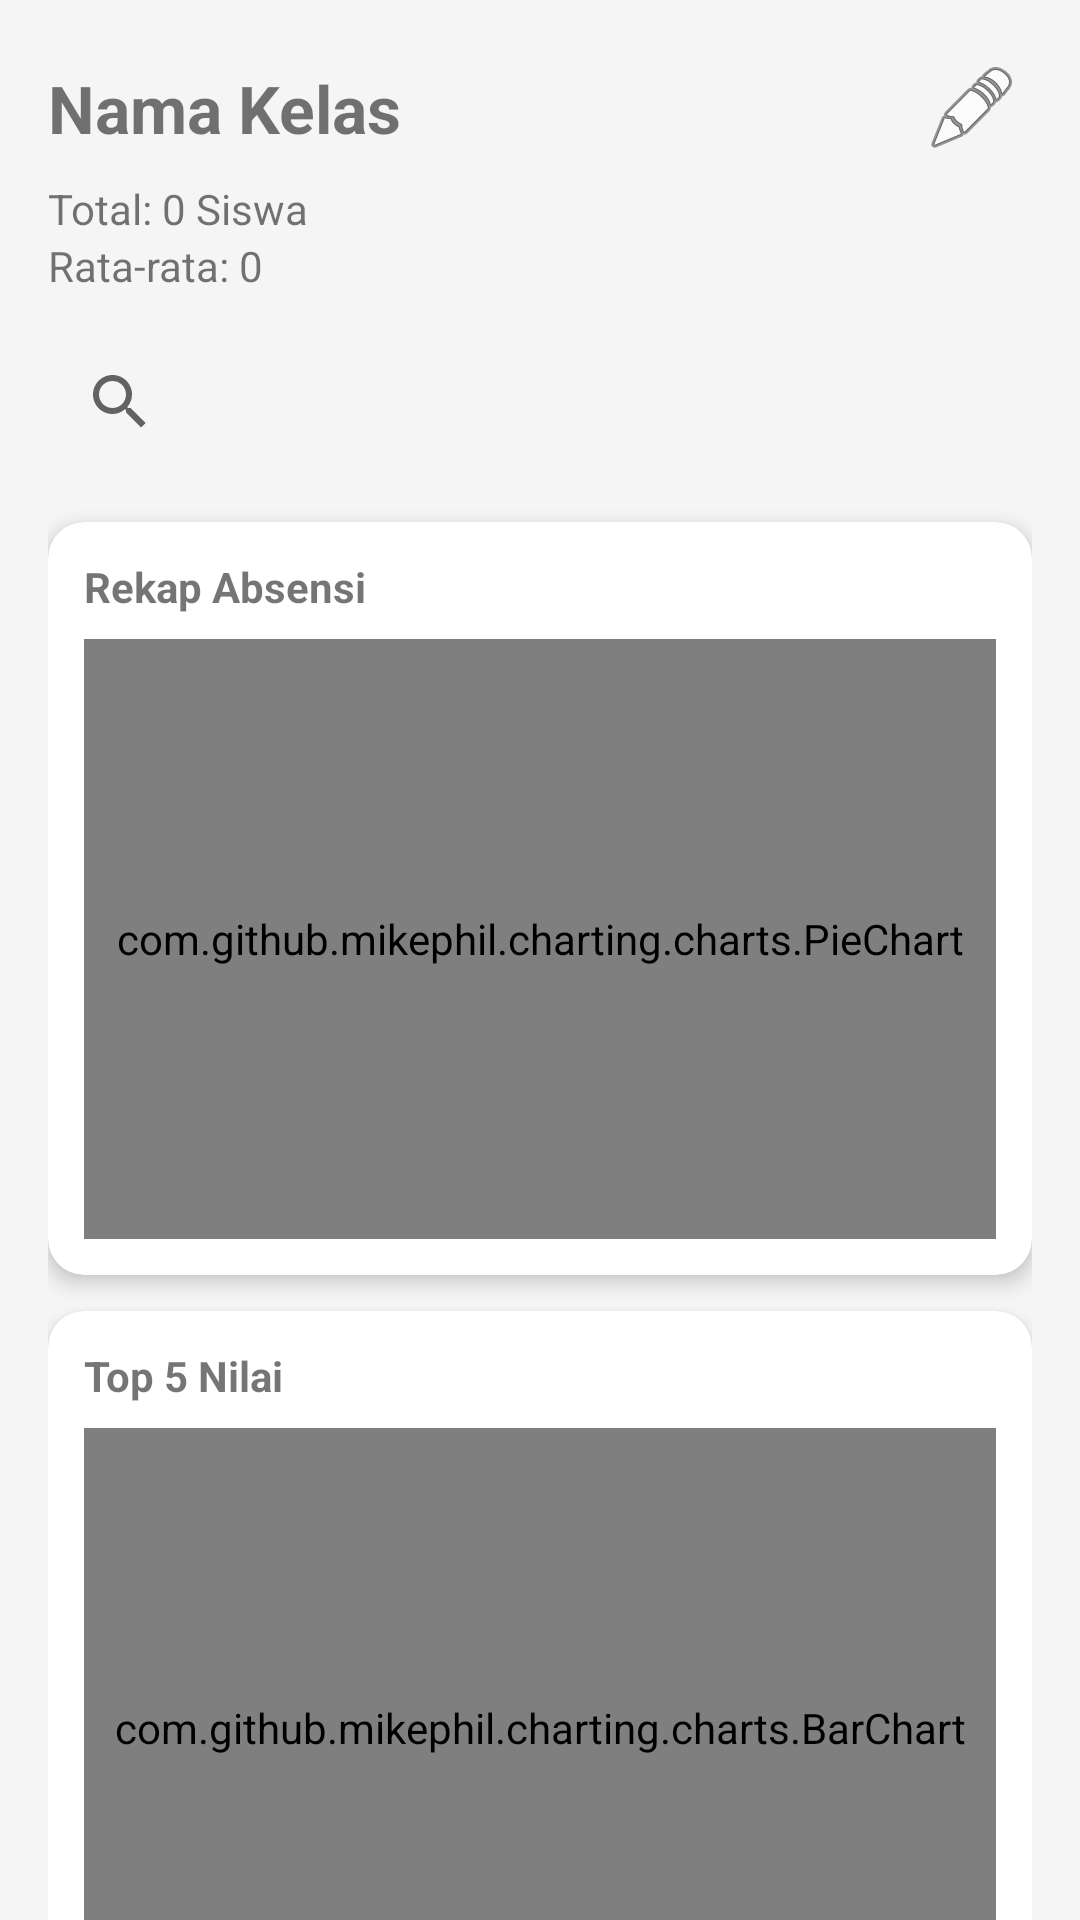

Icons on this 1080 × 1920 Android screen, each with the point to tap as (x,y):
edit: (971,107)
